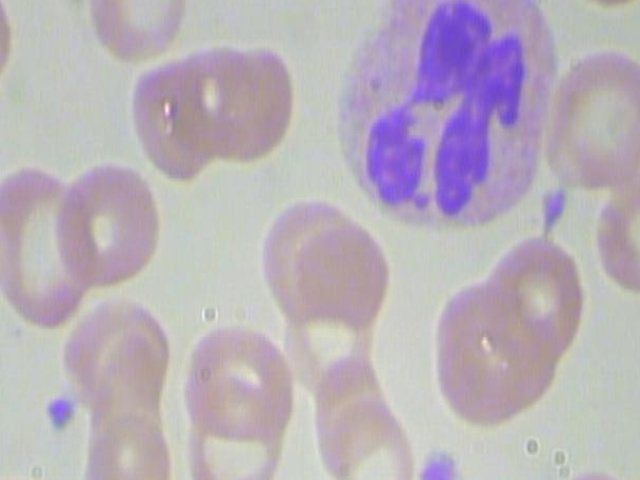Platelets: (534, 183, 577, 236), (44, 392, 83, 435), (413, 446, 462, 480)
RBC: (0, 159, 105, 332), (179, 309, 301, 443), (55, 156, 163, 288), (485, 232, 592, 364), (196, 45, 305, 168), (277, 219, 389, 333), (548, 49, 640, 181), (179, 396, 287, 480), (83, 0, 190, 62), (551, 0, 640, 7)
WBC: (310, 0, 562, 233)
